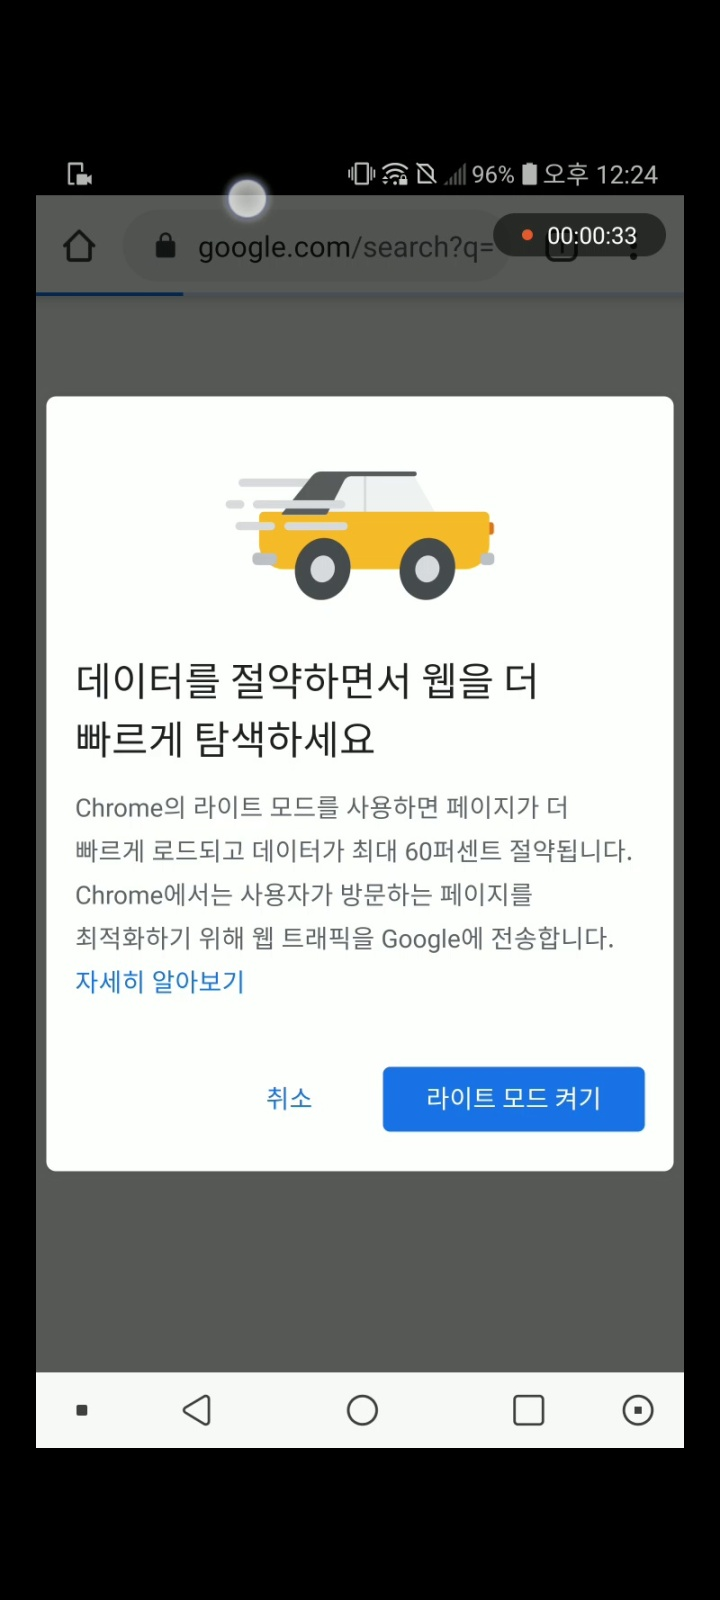Cursor: (225, 177, 270, 223)
